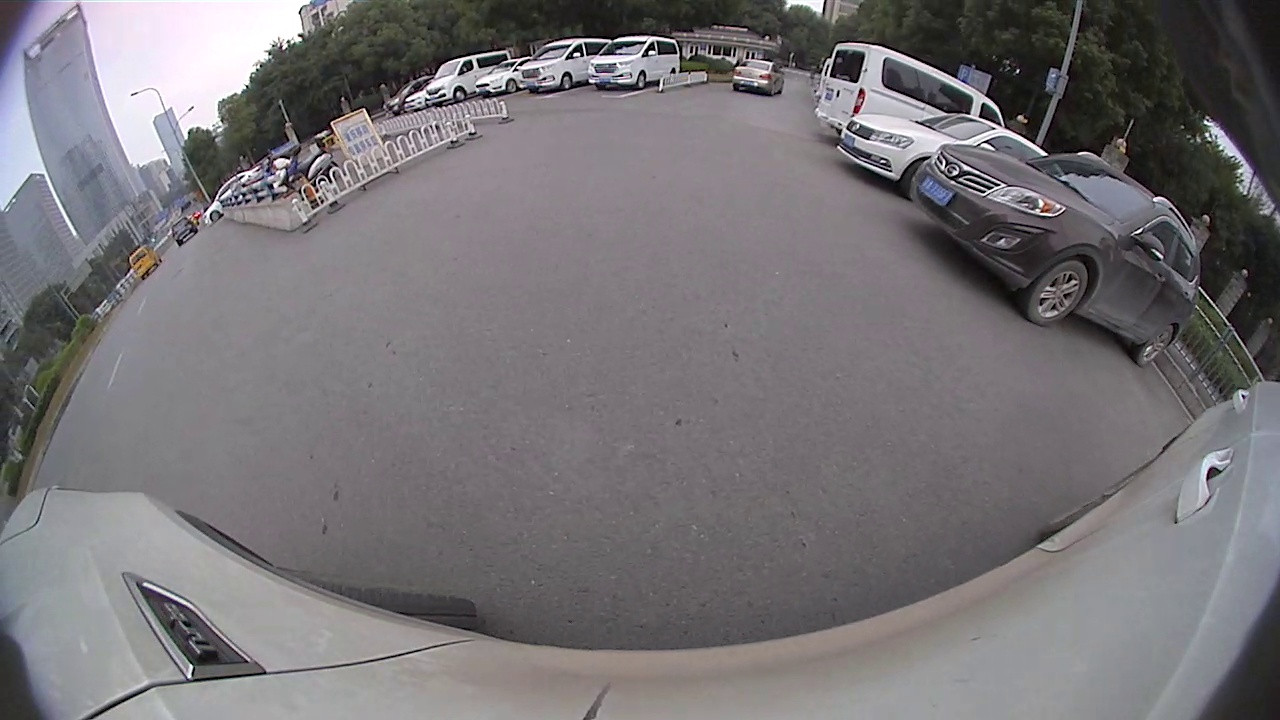car: (909, 142, 1205, 368), (812, 39, 1008, 147), (836, 111, 1054, 202), (423, 50, 519, 110), (516, 38, 614, 94), (586, 34, 681, 91), (472, 55, 541, 98), (730, 57, 787, 98)
front: (1022, 256, 1091, 325), (504, 78, 518, 93), (637, 70, 647, 91), (561, 73, 573, 90), (453, 88, 466, 102), (209, 210, 221, 222)
rear: (1131, 322, 1177, 369)
